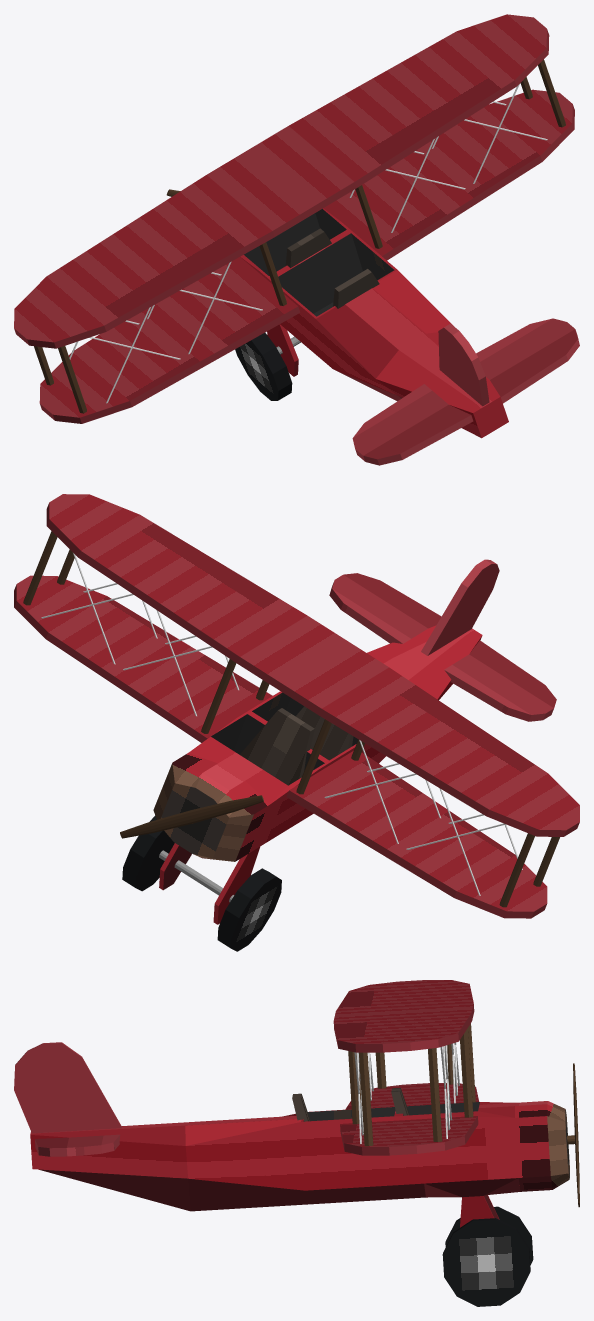
The model's file is low_poly_simple_biplane.glb.
3 renders of one model, top to bottom at view 1: azimuth 30°, elevation 25°; view 2: azimuth 150°, elevation 25°; view 3: azimuth 270°, elevation 25°, orthographic. The views are drawn at different scales.
Parts seen in each view (by area): view 1: cuboid_0, cuboid_3, cuboid_2, cuboid_28, cuboid_29, cuboid_1, cuboid_30, cuboid_31, cuboid_32, cylinder_34, cylinder_10, cylinder_9; view 2: cuboid_0, cuboid_3, cuboid_2, cuboid_28, cuboid_29, cuboid_1, cuboid_30, cuboid_31, cylinder_34, cuboid_32, cylinder_35, sphere_38 (+5 smaller); view 3: cuboid_0, cuboid_32, cylinder_35, cuboid_2, cuboid_29, cuboid_3, cuboid_28, cuboid_31, cuboid_1, cylinder_9, cylinder_8, cylinder_5 (+3 smaller).
Boxes of the visible parts, x1,y1,x2,y2 form: cuboid_0: (240, 208, 508, 438); cuboid_3: (14, 175, 274, 348); cuboid_2: (289, 14, 549, 187); cuboid_28: (39, 257, 300, 423); cuboid_29: (323, 89, 574, 260); cuboid_1: (207, 126, 356, 236); cuboid_30: (352, 384, 473, 465); cuboid_31: (476, 318, 579, 403); cuboid_32: (438, 323, 489, 406); cylinder_34: (235, 332, 292, 400); cylinder_10: (58, 346, 86, 413); cylinder_9: (538, 59, 565, 127); cuboid_0: (153, 625, 482, 924); cuboid_3: (319, 667, 579, 836); cuboid_2: (46, 494, 306, 663); cuboid_28: (286, 751, 547, 918); cuboid_29: (14, 575, 272, 742); cuboid_1: (237, 615, 388, 715); cuboid_30: (444, 640, 556, 721); cuboid_31: (329, 573, 441, 643); cylinder_34: (217, 868, 281, 951); cuboid_32: (421, 559, 499, 655); cylinder_35: (122, 815, 174, 891); sphere_38: (120, 795, 263, 838); cuboid_0: (30, 1087, 569, 1227); cuboid_32: (14, 1042, 122, 1133); cylinder_35: (442, 1218, 530, 1306); cuboid_2: (333, 1013, 471, 1052); cuboid_29: (340, 1116, 478, 1155); cuboid_3: (336, 980, 473, 1010); cuboid_28: (345, 1083, 479, 1109); cuboid_31: (35, 1134, 120, 1156); cuboid_1: (333, 1003, 474, 1020); cylinder_9: (359, 1052, 373, 1146); cylinder_8: (428, 1048, 442, 1141); cylinder_5: (460, 1028, 473, 1117).
Bounding box in the file's own units: 2.37 × 1.47 × 2.05.
1 material, 1 textured.
